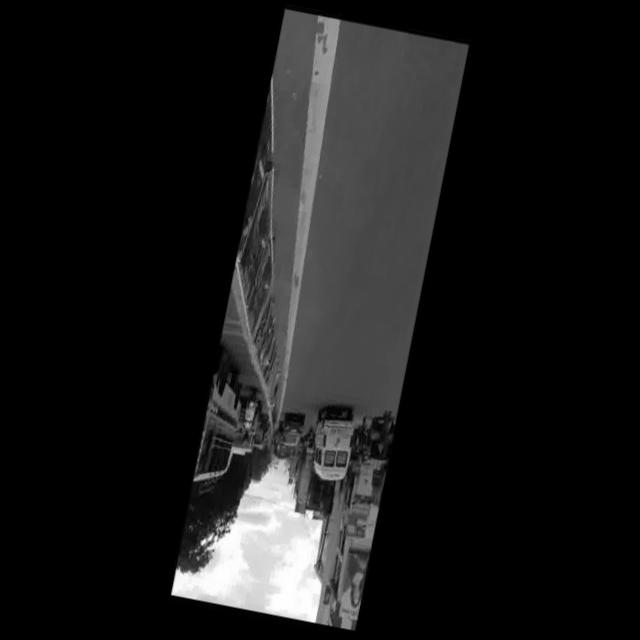ambulance: (304, 387, 346, 490)
